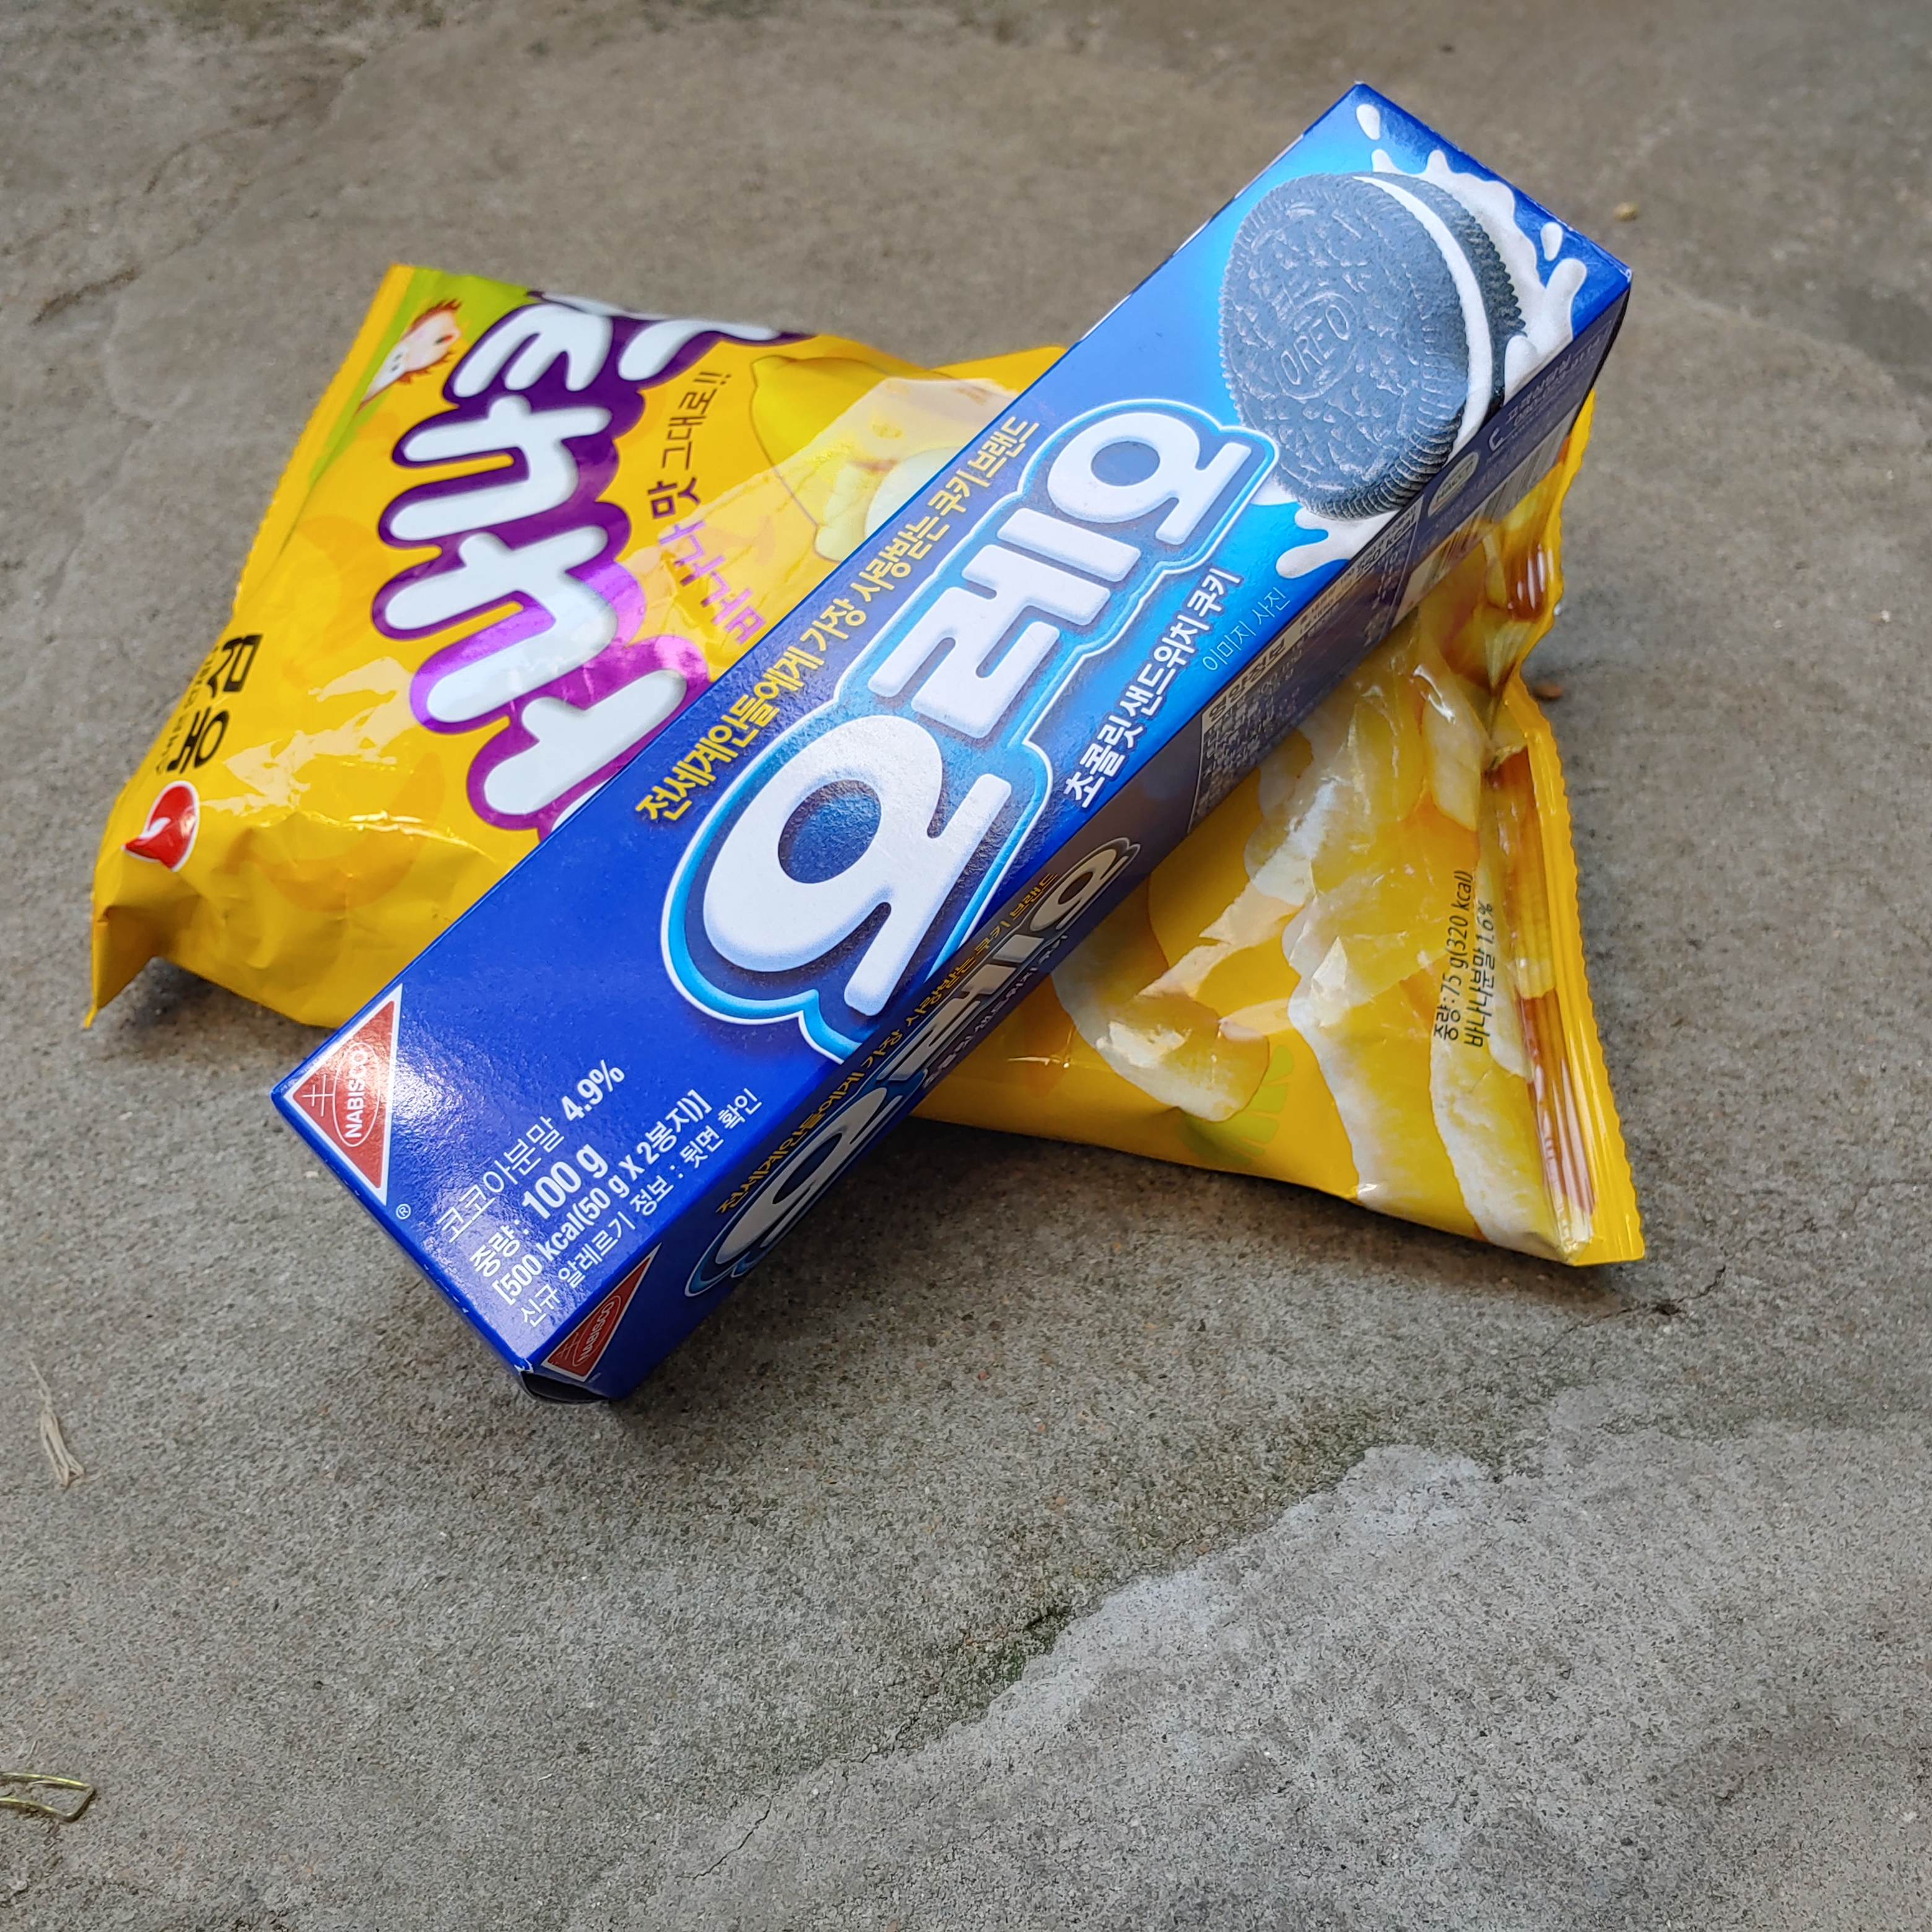banana: (41, 117, 1775, 1320)
oreo: (485, 163, 1329, 1382)
